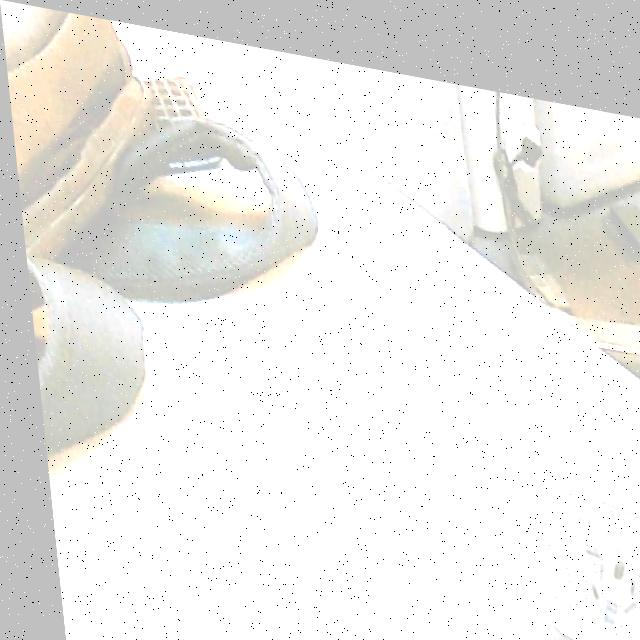adapter: (522, 460, 640, 640)
